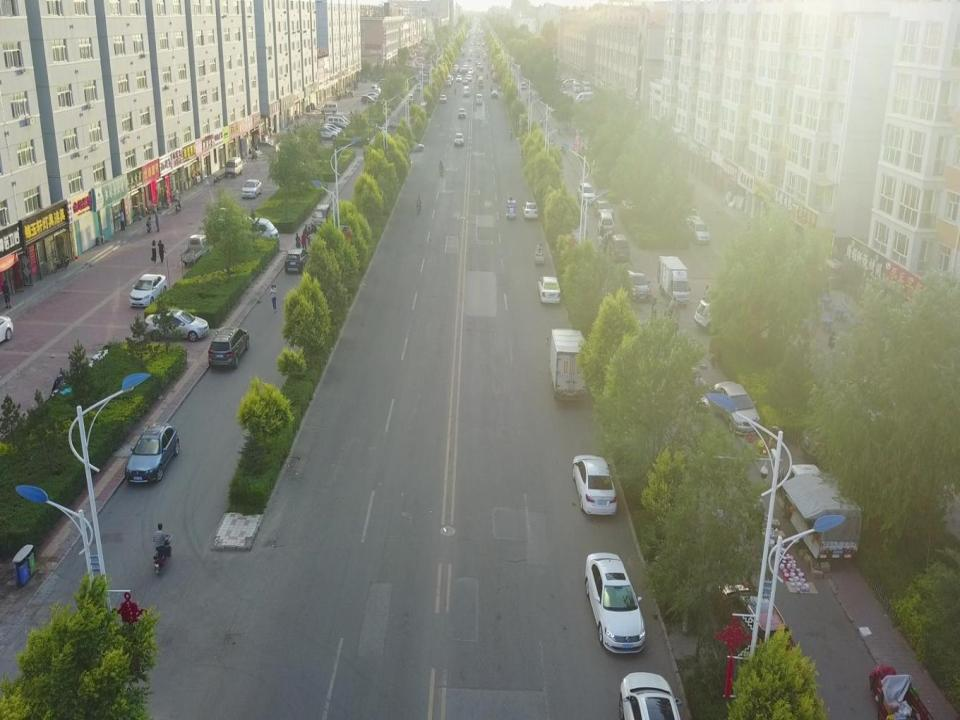car: (714, 579, 798, 663), (584, 552, 646, 654), (124, 422, 180, 483), (572, 453, 618, 516), (712, 379, 762, 436), (143, 308, 210, 340), (694, 297, 745, 334), (208, 326, 249, 369), (129, 273, 167, 307), (627, 271, 651, 303), (284, 247, 310, 274), (537, 276, 561, 305), (241, 178, 262, 198), (577, 183, 596, 204), (594, 200, 614, 219), (522, 200, 539, 220), (402, 140, 425, 154), (316, 126, 338, 140), (330, 114, 351, 127), (320, 126, 341, 138), (322, 123, 342, 134), (325, 121, 347, 131), (363, 92, 380, 101), (360, 95, 376, 104), (454, 133, 464, 147), (457, 107, 466, 119), (438, 94, 446, 104), (406, 94, 414, 104), (374, 88, 382, 96), (370, 84, 377, 93), (491, 90, 498, 98), (416, 84, 421, 90)
truck: (780, 463, 862, 561), (545, 327, 589, 401), (657, 255, 691, 307), (181, 234, 209, 266), (421, 72, 428, 84)
van: (236, 216, 280, 244), (608, 234, 630, 262), (688, 218, 711, 244), (311, 204, 331, 231), (597, 212, 614, 237), (224, 157, 243, 179), (327, 115, 349, 128), (576, 90, 594, 104), (321, 102, 338, 114), (561, 78, 576, 89), (582, 79, 592, 91), (462, 85, 470, 97), (572, 80, 580, 92), (476, 94, 483, 106)
